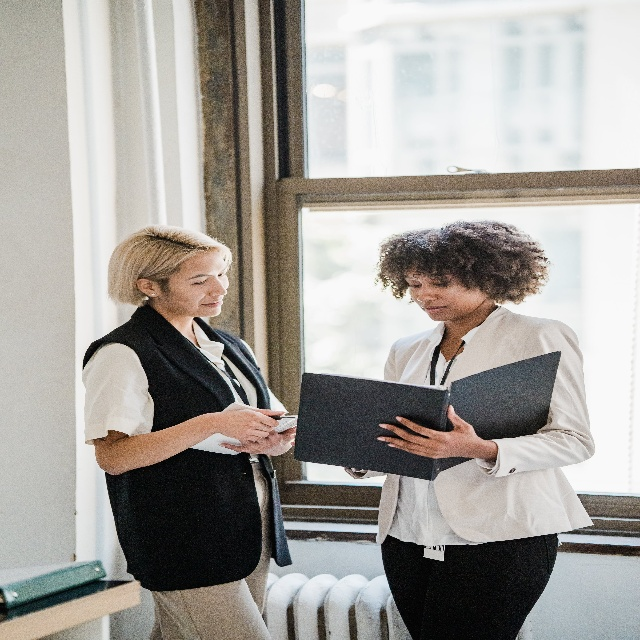Sin_guantes: (377, 410, 472, 453), (223, 403, 282, 438), (222, 432, 298, 457)
